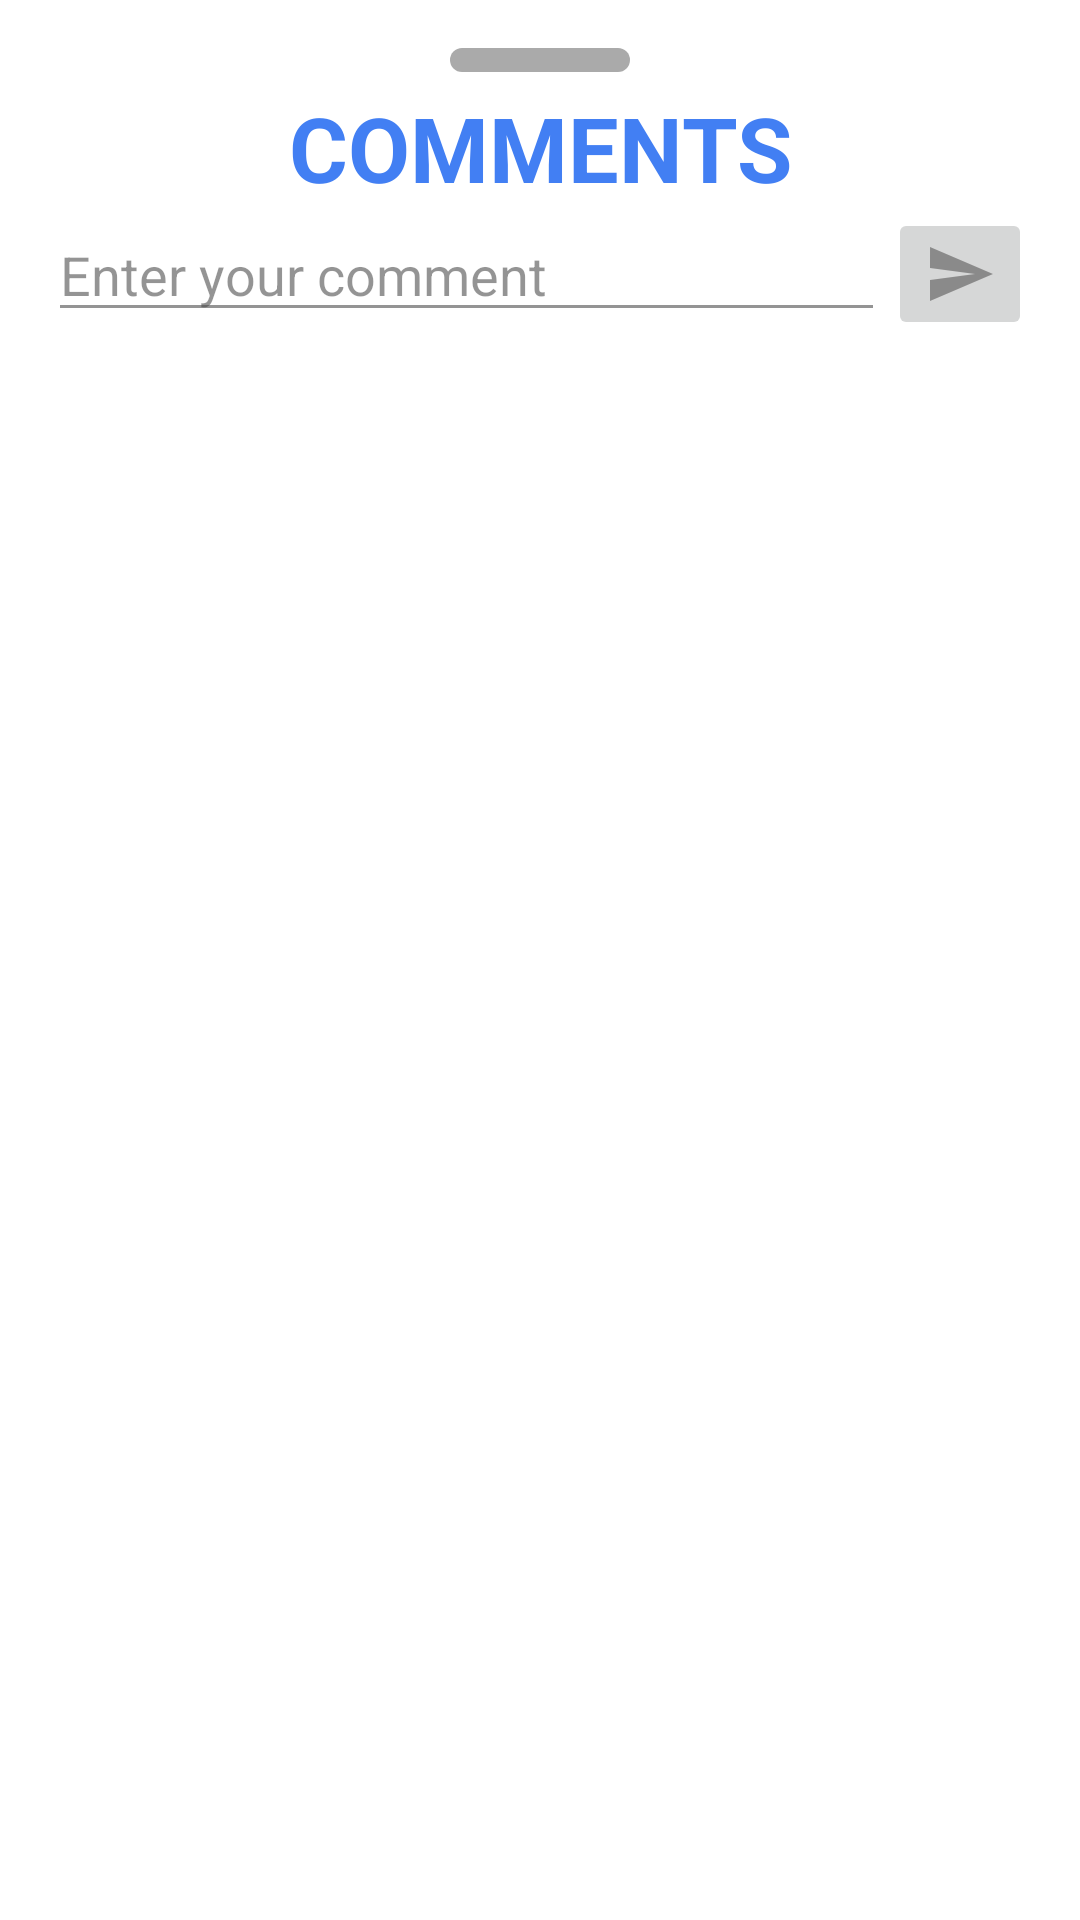

Screen size 1080*1920. Icon name, then its center in pixels as point (x, y):
send: point (960, 274)
